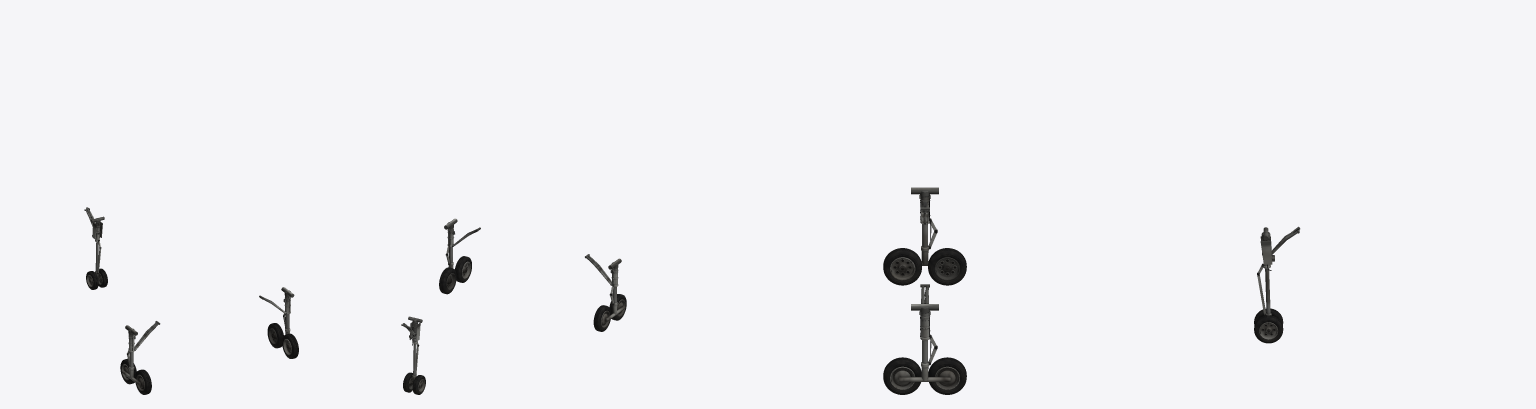
File: viggen_gear.glb
The picture shows the model from 3 angles, left to right: view 1: azimuth 30°, elevation 25°; view 2: azimuth 150°, elevation 25°; view 3: azimuth 270°, elevation 25°; orthographic projection. The views are drawn at different scales.
Visible parts, largest first — view 1: gear_n, gear_w_r, gear_w_l, gear_m_l, gear_m_r; view 2: gear_n, gear_w_r, gear_w_l, gear_m_l, gear_m_r; view 3: gear_w_l, gear_w_r, gear_n, gear_m_r, gear_m_l.
Part boxes in pixels (<box>): gear_n: <box>86,216,107,289</box>; gear_w_r: <box>267,323,298,358</box>; gear_w_l: <box>120,358,151,394</box>; gear_m_l: <box>122,325,140,385</box>; gear_m_r: <box>281,287,294,334</box>; gear_n: <box>403,316,425,394</box>; gear_w_r: <box>439,256,471,294</box>; gear_w_l: <box>593,294,626,331</box>; gear_m_l: <box>605,258,624,321</box>; gear_m_r: <box>444,218,457,269</box>; gear_w_l: <box>883,248,966,285</box>; gear_w_r: <box>883,357,966,394</box>; gear_n: <box>1254,227,1283,343</box>; gear_m_r: <box>899,304,950,381</box>; gear_m_l: <box>911,187,938,265</box>.
Size of the model in its own units: 5.28 by 6.65 by 16.06.
1 material, 1 textured.
